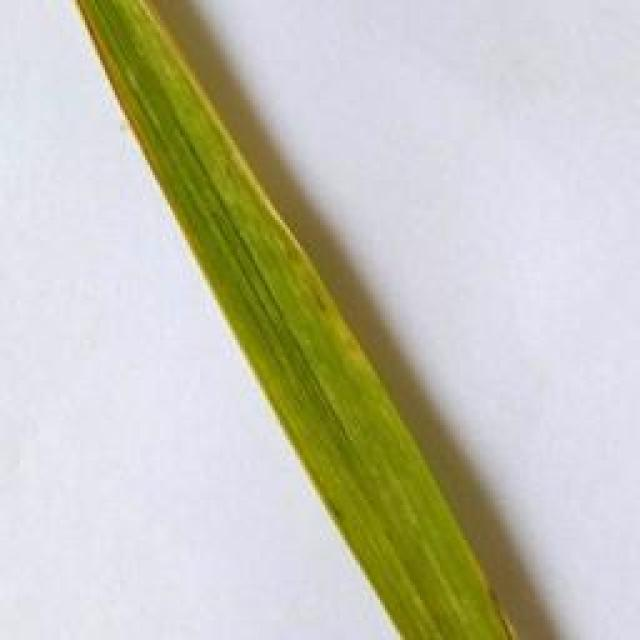Bacterial_Blight: (135, 0, 307, 260), (67, 0, 192, 242), (323, 303, 382, 377)
Brown_Spot: (486, 579, 526, 640), (306, 284, 336, 320)
